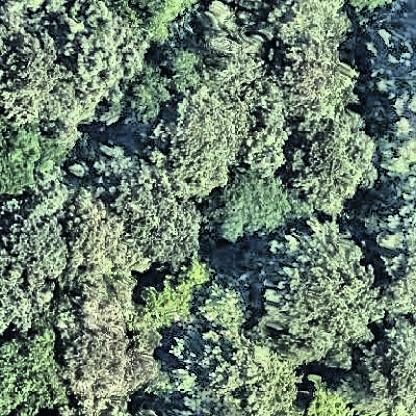tree-top: (246, 228, 381, 372), (187, 282, 299, 412), (94, 150, 206, 260), (66, 205, 141, 331), (286, 113, 377, 216), (58, 3, 154, 99), (170, 85, 249, 200), (276, 31, 360, 122), (62, 324, 156, 402), (201, 168, 297, 244), (199, 1, 274, 89), (353, 313, 413, 416), (11, 190, 75, 284), (1, 323, 65, 413), (131, 262, 214, 324), (6, 37, 67, 119), (378, 188, 416, 319), (1, 116, 62, 195), (1, 258, 51, 335), (297, 371, 357, 416), (164, 44, 212, 100), (130, 62, 169, 124), (378, 120, 416, 176)
